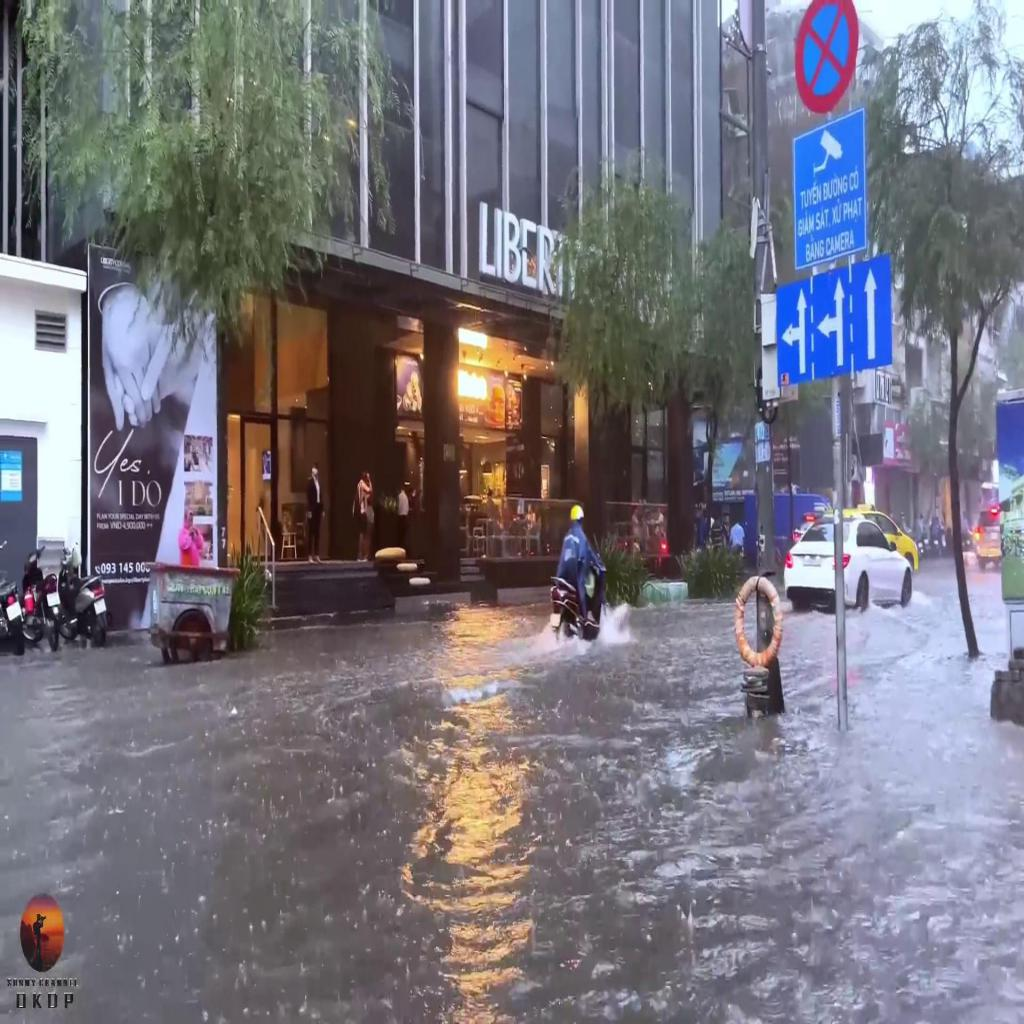cam_dung_xe_va_do_xe: (795, 0, 859, 115)
huong_di_tren_moi_lan_duong_theo_vach_ke_duong: (779, 253, 893, 386)
khac: (793, 108, 865, 267)
